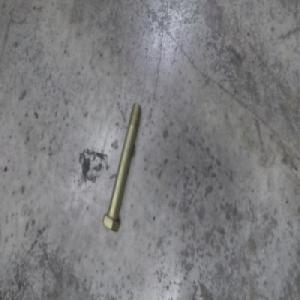Bolt: (102, 106, 141, 235)
